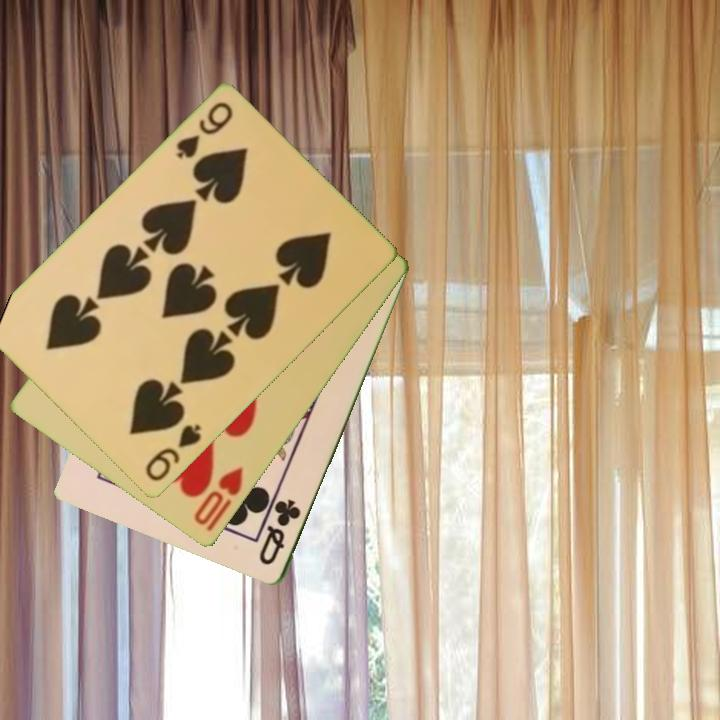10h: (190, 463, 247, 529)
9s: (172, 98, 236, 163), (141, 421, 204, 486)
Qc: (255, 495, 304, 569)
